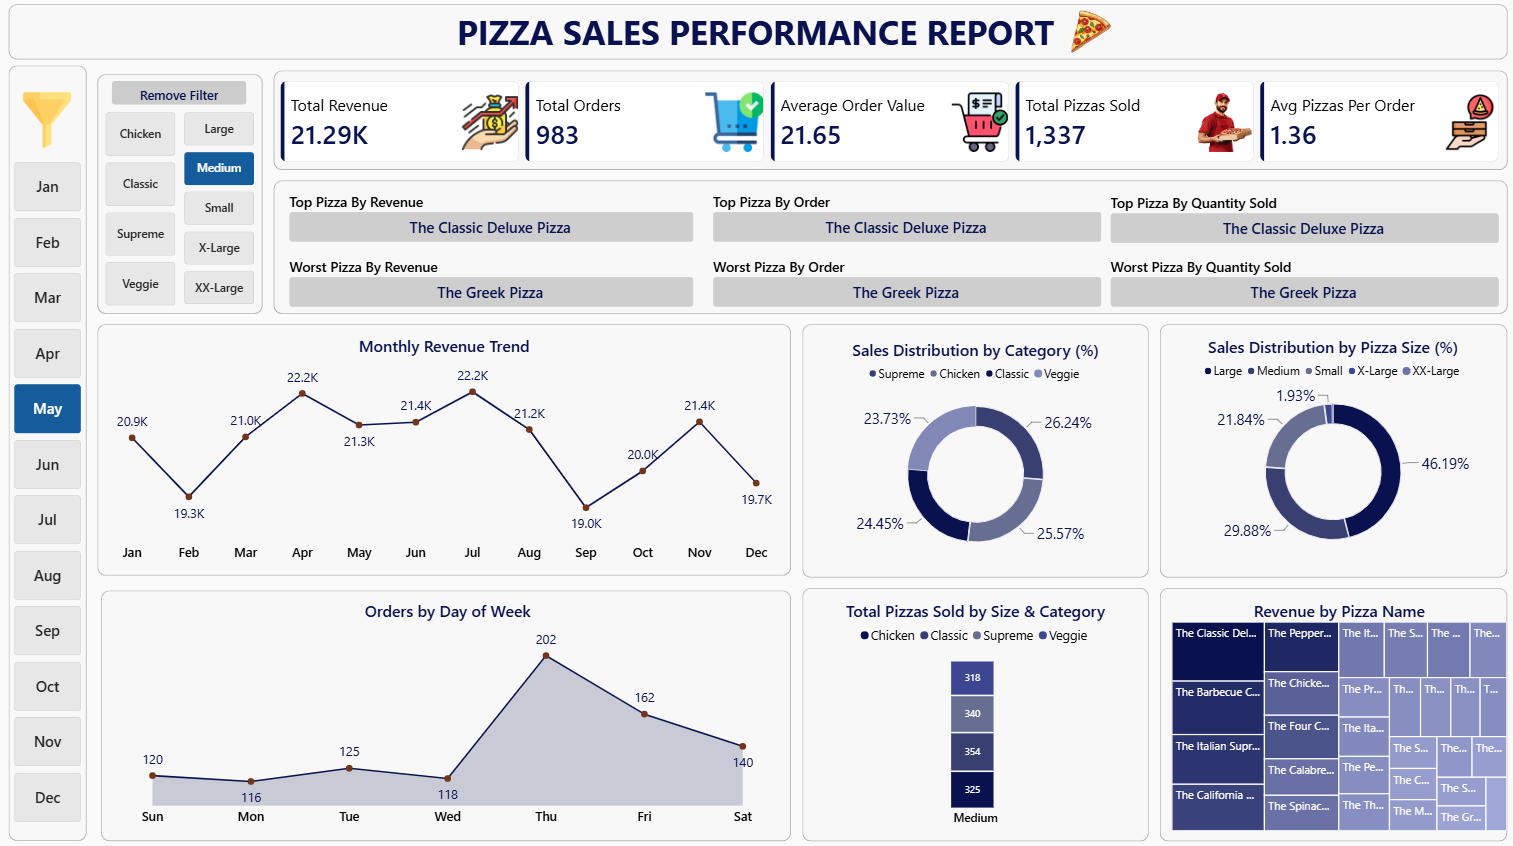

The dashboard page shown, as its layout file describes it:
{"tool":"powerbi","page":{"name":"DASHBOARD","canvas":[1920,1080],"ordinal":0},"visuals":[{"type":"shape","box":[12.9,10,1892.9,71.4],"z":0,"group":"g1"},{"type":"group","id":"g1","title":"Group 1","box":[12.9,10,1892.9,1058.6],"z":0},{"type":"advancedSlicerVisual","title":"Top Pizza By Revenue","fields":{"Values":["PIZZA SALES.pizza_name"]},"box":[368.6,247.6,510,62.9],"z":0,"group":"g2"},{"type":"shape","box":[13.2,88,100,980],"z":1000,"group":"g1"},{"type":"cardVisual","fields":{"Data":["PIZZA SALES.Total Revenue","PIZZA SALES.Total Orders","PIZZA SALES.Average Order Value","PIZZA SALES.Total Pizzas Sold","PIZZA SALES.Avg Pizzas Per Order"]},"box":[357.1,107.1,1537.1,102.9],"z":1000},{"type":"advancedSlicerVisual","title":"Worst Pizza By Revenue","fields":{"Values":["PIZZA SALES.pizza_name"]},"box":[368.6,329,510,62.9],"z":1000,"group":"g2"},{"type":"shape","box":[125.2,98,210,304],"z":2000,"group":"g1"},{"type":"lineChart","title":"Monthly Revenue Trend","fields":{"Category":["PIZZA SALES.Month Name"],"Y":["PIZZA SALES.Total Revenue"]},"box":[125.6,413.3,876.7,322.2],"z":2000},{"type":"shape","box":[124.2,413.3,876.7,318.9],"z":3000,"group":"g1"},{"type":"lineChart","title":"Orders by Day of Week","fields":{"Category":["PIZZA SALES.Day Name"],"Y":["PIZZA SALES.Total Orders"]},"box":[130,748,876,320],"z":3000},{"type":"donutChart","title":"Sales Distribution by Category (%)","fields":{"Category":["PIZZA SALES.pizza_category"],"Y":["PIZZA SALES.Total Revenue"]},"box":[1014.3,418.6,438.6,314.3],"z":4000},{"type":"shape","box":[129.2,750,872,318],"z":4000,"group":"g1"},{"type":"shape","box":[1014.3,414.3,438.6,321.4],"z":5000,"group":"g1"},{"type":"donutChart","title":"Sales Distribution by Pizza Size (%)","fields":{"Category":["PIZZA SALES.pizza_size"],"Y":["PIZZA SALES.Total Revenue"]},"box":[1465.7,414.3,438.6,314.3],"z":5000},{"type":"shape","box":[1465.8,414.3,440,321.4],"z":6000,"group":"g1"},{"type":"columnChart","title":"Total Pizzas Sold by Size & Category","fields":{"Category":["PIZZA SALES.pizza_size"],"Series":["PIZZA SALES.pizza_category"],"Y":["PIZZA SALES.Total Pizzas Sold"]},"box":[1014.3,747.1,438.6,321.4],"z":6000},{"type":"shape","box":[347.2,92.9,1558.6,127.1],"z":7000,"group":"g1"},{"type":"treemap","title":"Revenue by Pizza Name","fields":{"Group":["PIZZA SALES.pizza_name"],"Values":["PIZZA SALES.Total Revenue"]},"box":[1465.7,747.1,454.3,321.4],"z":7000},{"type":"shape","box":[347.2,232.9,1558.6,170],"z":8000,"group":"g1"},{"type":"advancedSlicerVisual","title":"Top Pizza By Order","fields":{"Values":["PIZZA SALES.pizza_name"]},"box":[902.9,247.8,490,62.9],"z":8000},{"type":"advancedSlicerVisual","title":"Worst Pizza By Order","fields":{"Values":["PIZZA SALES.pizza_name"]},"box":[902.9,329.2,490,62.9],"z":9000},{"type":"shape","box":[1014.3,747.1,438.6,321.4],"z":9000,"group":"g1"},{"type":"group","id":"g2","title":"Group 3","box":[368.6,247.6,510,144.3],"z":10000},{"type":"shape","box":[1465.8,747.1,440,321.4],"z":10000,"group":"g1"},{"type":"advancedSlicerVisual","title":"Top Pizza By Quantity Sold","fields":{"Values":["PIZZA SALES.pizza_name"]},"box":[1404.3,249,490,62.9],"z":11000},{"type":"advancedSlicerVisual","title":"Worst Pizza By Quantity Sold","fields":{"Values":["PIZZA SALES.pizza_name"]},"box":[1404.3,330.4,490,62.9],"z":12000},{"type":"advancedSlicerVisual","fields":{"Values":["PIZZA SALES.Month Name"]},"box":[21,210,84,842],"z":13000},{"type":"advancedSlicerVisual","fields":{"Values":["PIZZA SALES.pizza_category"]},"box":[136.5,147.5,88.5,246],"z":14000},{"type":"advancedSlicerVisual","fields":{"Values":["PIZZA SALES.pizza_size"]},"box":[235.5,147.5,88.5,246],"z":15000},{"type":"actionButton","box":[144.3,107.1,170,30],"z":15001},{"type":"image","box":[17.1,121.4,88.6,70],"z":15002},{"type":"textbox","box":[10,8,1892.9,71.4],"z":15003},{"type":"image","box":[1327.1,14.3,101.4,62.9],"z":15004},{"type":"textbox","box":[105.7,21.4,184.3,47.1],"z":15006}]}

Visuals, with their boxes in screenshot pixels (x1, y1, x2, y2), scaled from the page's 1920x1080 canvas onto the 1513x846 screenshot:
shape: BBox(10, 8, 1502, 64)
"Group 1" group: BBox(10, 8, 1502, 837)
"Top Pizza By Revenue" advancedSlicerVisual: BBox(290, 194, 692, 243)
shape: BBox(10, 69, 89, 837)
cardVisual - PIZZA SALES.Total Revenue x PIZZA SALES.Total Orders: BBox(281, 84, 1493, 164)
"Worst Pizza By Revenue" advancedSlicerVisual: BBox(290, 258, 692, 307)
shape: BBox(99, 77, 264, 315)
"Monthly Revenue Trend" lineChart: BBox(99, 324, 790, 576)
shape: BBox(98, 324, 789, 574)
"Orders by Day of Week" lineChart: BBox(102, 586, 793, 837)
"Sales Distribution by Category (%)" donutChart: BBox(799, 328, 1145, 574)
shape: BBox(102, 588, 789, 837)
shape: BBox(799, 325, 1145, 576)
"Sales Distribution by Pizza Size (%)" donutChart: BBox(1155, 325, 1501, 571)
shape: BBox(1155, 325, 1502, 576)
"Total Pizzas Sold by Size & Category" columnChart: BBox(799, 585, 1145, 837)
shape: BBox(274, 73, 1502, 172)
"Revenue by Pizza Name" treemap: BBox(1155, 585, 1512, 837)
shape: BBox(274, 182, 1502, 316)
"Top Pizza By Order" advancedSlicerVisual: BBox(712, 194, 1098, 243)
"Worst Pizza By Order" advancedSlicerVisual: BBox(712, 258, 1098, 307)
shape: BBox(799, 585, 1145, 837)
"Group 3" group: BBox(290, 194, 692, 307)
shape: BBox(1155, 585, 1502, 837)
"Top Pizza By Quantity Sold" advancedSlicerVisual: BBox(1107, 195, 1493, 244)
"Worst Pizza By Quantity Sold" advancedSlicerVisual: BBox(1107, 259, 1493, 308)
advancedSlicerVisual - PIZZA SALES.Month Name: BBox(17, 164, 83, 824)
advancedSlicerVisual - PIZZA SALES.pizza_category: BBox(108, 116, 177, 308)
advancedSlicerVisual - PIZZA SALES.pizza_size: BBox(186, 116, 255, 308)
actionButton: BBox(114, 84, 248, 107)
image: BBox(13, 95, 83, 150)
textbox: BBox(8, 6, 1500, 62)
image: BBox(1046, 11, 1126, 60)
textbox: BBox(83, 17, 229, 54)
